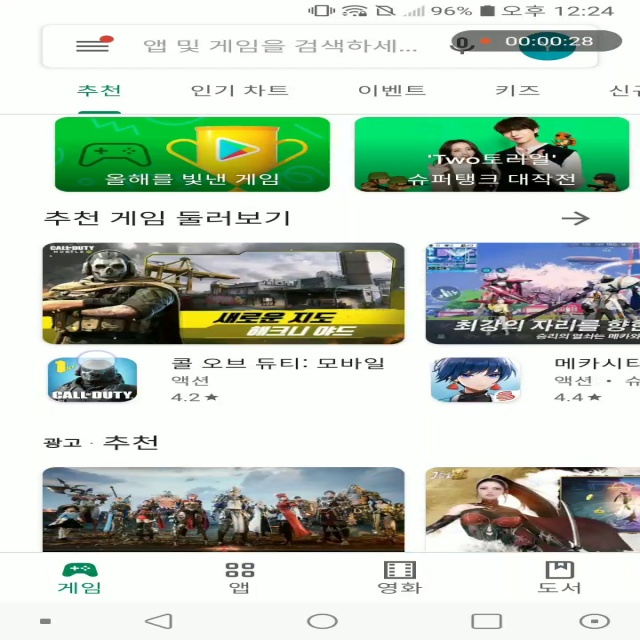Cursor: (76, 350, 120, 372)
